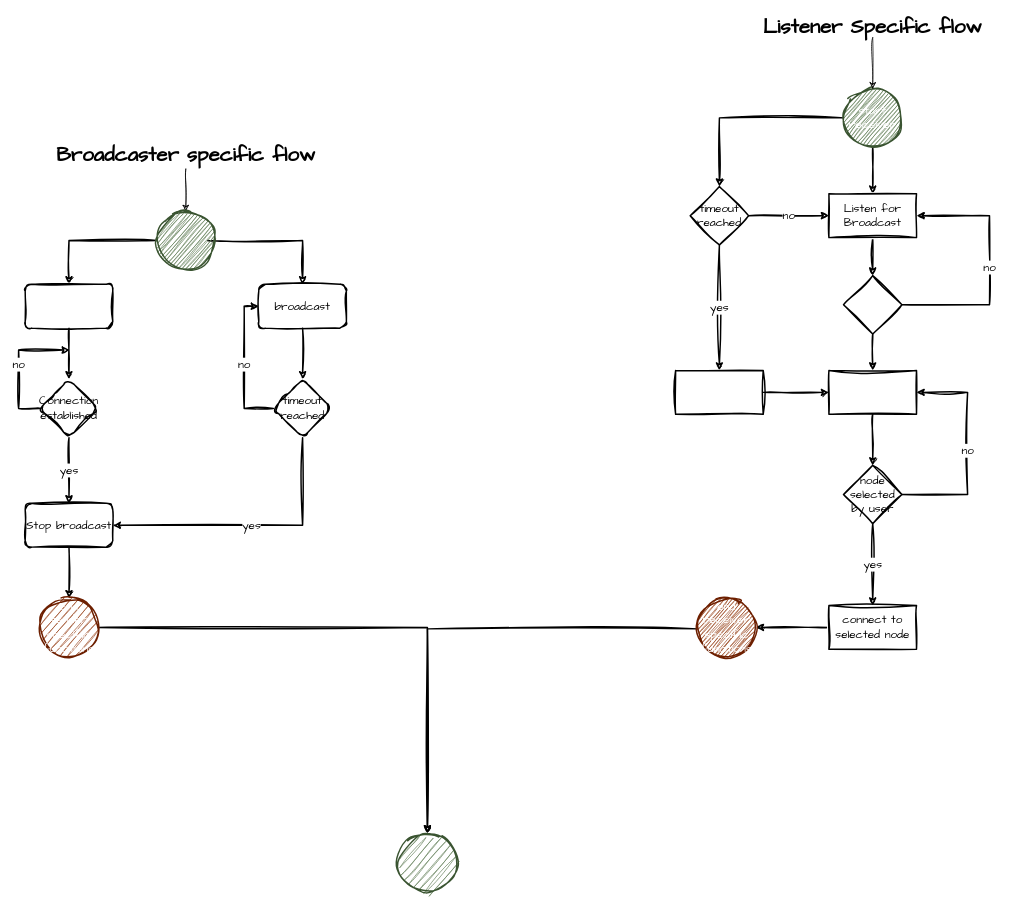
The diagram is 1031 pixels wide and 904 high, and some of its shapes have lost their labels. The shapes that lost their labels are listed below. From the top down, each one's box as (x1, y1, x2, y2) in pixels, then its label:
(155, 210, 215, 270): start sender
(24, 283, 113, 328): Start Server
(842, 274, 902, 334): broadcast received
(675, 369, 764, 415): stop listening
(828, 369, 917, 415): display available nodes
(397, 832, 457, 892): Start generic functions
